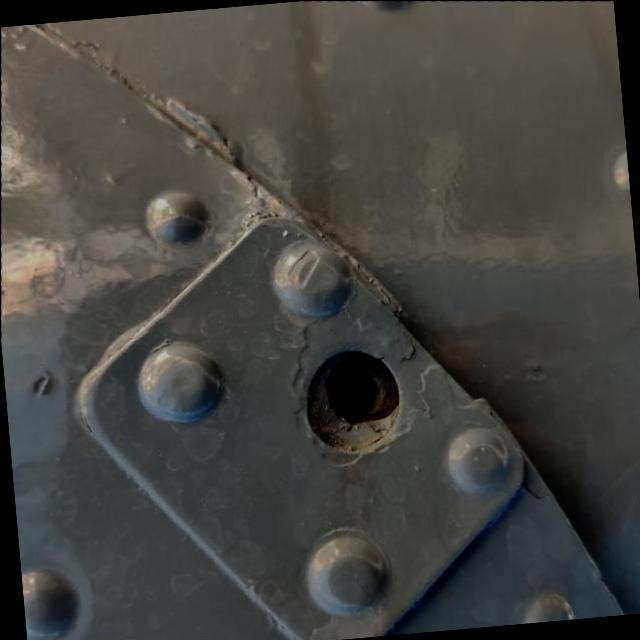Missing Fastener: (301, 346, 403, 455)
